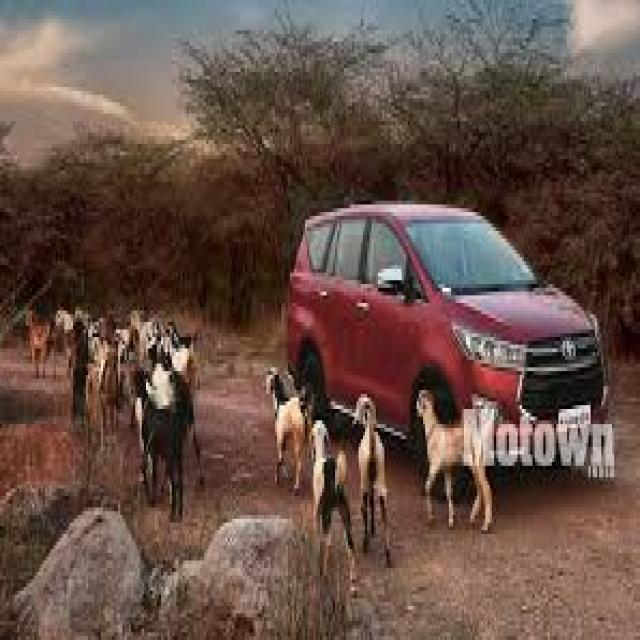light_vehicle: (286, 202, 608, 506)
